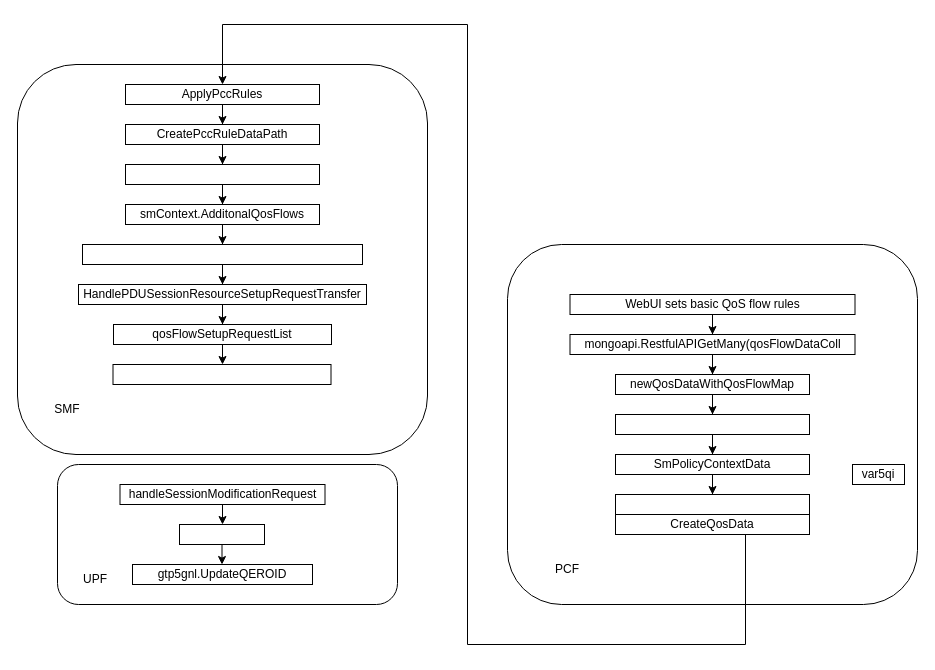
Some shapes in this 935 by 670 pixel diagram are drawn without their labels. Each missing label, with the centre of its shape:
"AddQosFlow" goes at point (222, 174).
"BuildPDUSessionResourceSetupRequestTransfer" goes at point (222, 254).
"CreatePccRule" goes at point (712, 504).
"CreateSmPolicy" goes at point (712, 424).
"PDUSessionResourceSetupRequest" goes at point (221, 374).
"UpdateQER" goes at point (221, 534).
